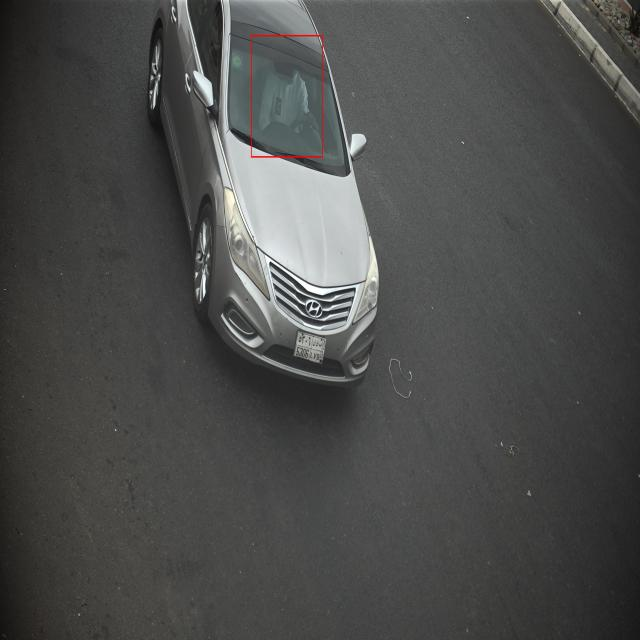windshield: (224, 27, 350, 176)
